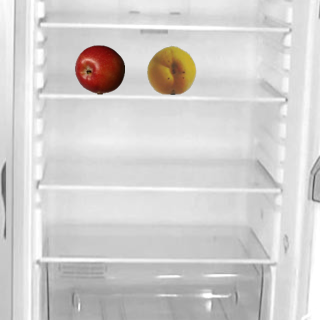Apple Braeburn: (74, 44, 124, 94)
Peach 2: (146, 44, 196, 94)
